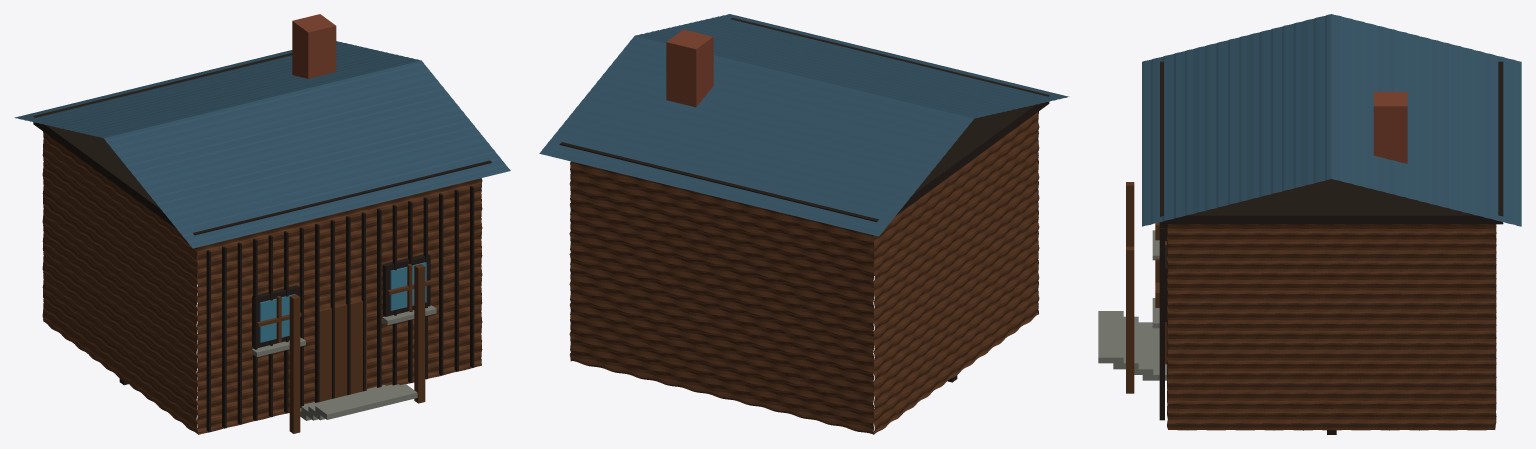
File: pine_lodge_02.obj
3 renders of one model, left to right at view 1: azimuth 30°, elevation 25°; view 2: azimuth 150°, elevation 25°; view 3: azimuth 270°, elevation 25°, orthographic. The views are drawn at different scales.
Visible parts, largest first — view 1: pine_lodge_02; view 2: pine_lodge_02; view 3: pine_lodge_02.
Boxes of the visible parts, left/top/right/bottom form: pine_lodge_02: left=14, top=14, right=510, bottom=434; pine_lodge_02: left=539, top=14, right=1069, bottom=434; pine_lodge_02: left=1098, top=14, right=1521, bottom=434.
Size of the model in its own units: 7.39 by 6.36 by 8.02.
